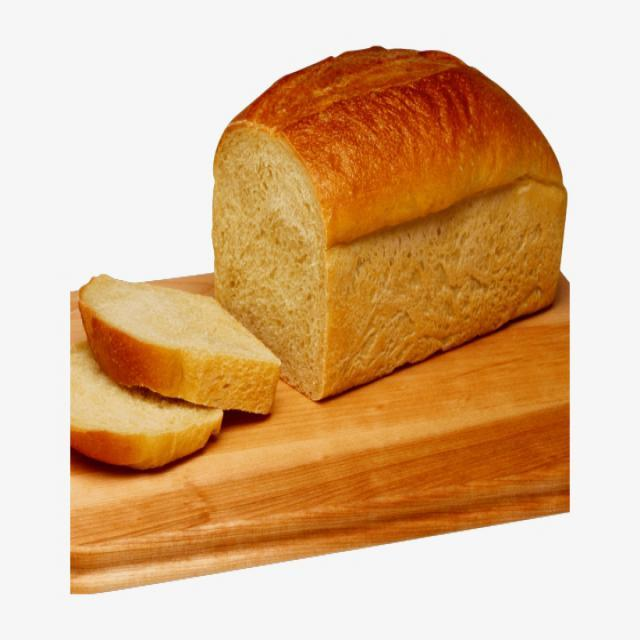Bread: (70, 44, 568, 462)
